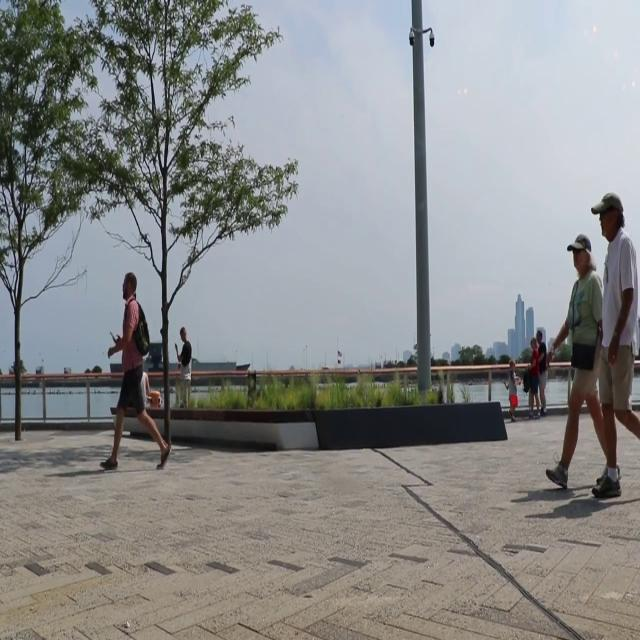normal: (548, 230, 614, 491), (589, 185, 640, 518), (102, 271, 174, 484)
